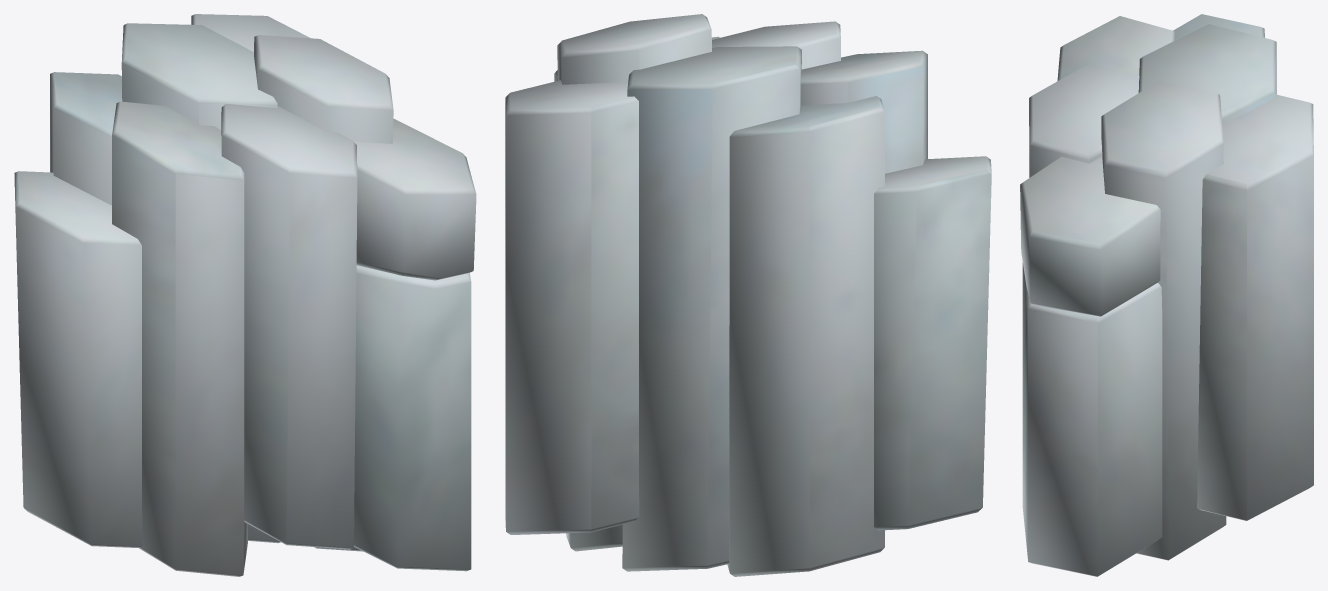
The model's file is P_RockHexic_RockSlanted07.obj.
3 renders of one model, left to right at view 1: azimuth 30°, elevation 25°; view 2: azimuth 150°, elevation 25°; view 3: azimuth 270°, elevation 25°, orthographic. The views are drawn at different scales.
Size of the model in its own units: 13.17 by 14.91 by 9.02.
